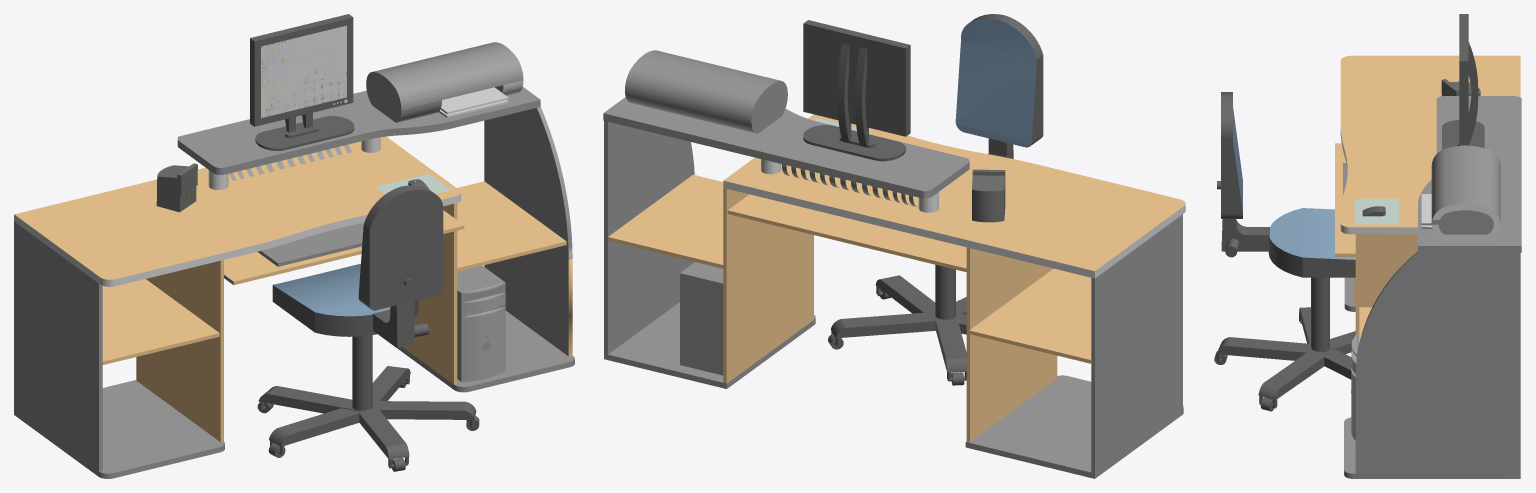
File: exportedObject.obj
3 renders of one model, left to right at view 1: azimuth 30°, elevation 25°; view 2: azimuth 150°, elevation 25°; view 3: azimuth 270°, elevation 25°, orthographic. The views are drawn at different scales.
Parts seen in each view (by area): view 1: Mesh10, Mesh5, Mesh56, Mesh2, Mesh1, Mesh4, Mesh28, Mesh3, Mesh17, Mesh36, Mesh41, Mesh8 (+6 smaller); view 2: Mesh10, Mesh5, Mesh2, Mesh55, Mesh1, Mesh4, Mesh3, Mesh46, Mesh8, Mesh56, Mesh51, Mesh36 (+1 smaller); view 3: Mesh10, Mesh28, Mesh5, Mesh56, Mesh31, Mesh36, Mesh57, Mesh58, Mesh3, Mesh46, Mesh51, Mesh55 (+1 smaller).
Boxes of the visible parts, x1=… form: Mesh10: x1=14, y1=42, x2=574, y2=478; Mesh5: x1=250, y1=14, x2=354, y2=150; Mesh56: x1=358, y1=185, x2=443, y2=310; Mesh2: x1=136, y1=260, x2=223, y2=441; Mesh1: x1=102, y1=279, x2=219, y2=364; Mesh4: x1=457, y1=181, x2=566, y2=271; Mesh28: x1=272, y1=263, x2=418, y2=336; Mesh3: x1=224, y1=210, x2=464, y2=284; Mesh17: x1=257, y1=222, x2=364, y2=266; Mesh36: x1=372, y1=401, x2=476, y2=419; Mesh41: x1=269, y1=408, x2=366, y2=446; Mesh8: x1=156, y1=163, x2=197, y2=212; Mesh10: x1=603, y1=50, x2=1185, y2=478; Mesh5: x1=803, y1=20, x2=910, y2=161; Mesh2: x1=966, y1=247, x2=1057, y2=441; Mesh55: x1=955, y1=18, x2=1036, y2=147; Mesh1: x1=969, y1=268, x2=1091, y2=363; Mesh4: x1=608, y1=174, x2=723, y2=268; Mesh3: x1=727, y1=194, x2=966, y2=272; Mesh46: x1=830, y1=312, x2=935, y2=338; Mesh8: x1=972, y1=169, x2=1005, y2=222; Mesh56: x1=970, y1=14, x2=1043, y2=145; Mesh51: x1=934, y1=314, x2=966, y2=372; Mesh36: x1=875, y1=275, x2=935, y2=318; Mesh10: x1=1340, y1=55, x2=1521, y2=478; Mesh28: x1=1268, y1=208, x2=1355, y2=277; Mesh5: x1=1442, y1=14, x2=1484, y2=149; Mesh56: x1=1221, y1=92, x2=1242, y2=218; Mesh31: x1=1217, y1=337, x2=1316, y2=360; Mesh36: x1=1258, y1=351, x2=1324, y2=400; Mesh57: x1=1311, y1=277, x2=1329, y2=351; Mesh58: x1=1221, y1=219, x2=1269, y2=251; Mesh3: x1=1335, y1=143, x2=1355, y2=256; Mesh46: x1=1318, y1=349, x2=1351, y2=379; Mesh51: x1=1323, y1=331, x2=1355, y2=354; Mesh55: x1=1233, y1=108, x2=1242, y2=211.
Bounding box in the file's own units: 88.76 × 61.75 × 50.84.
